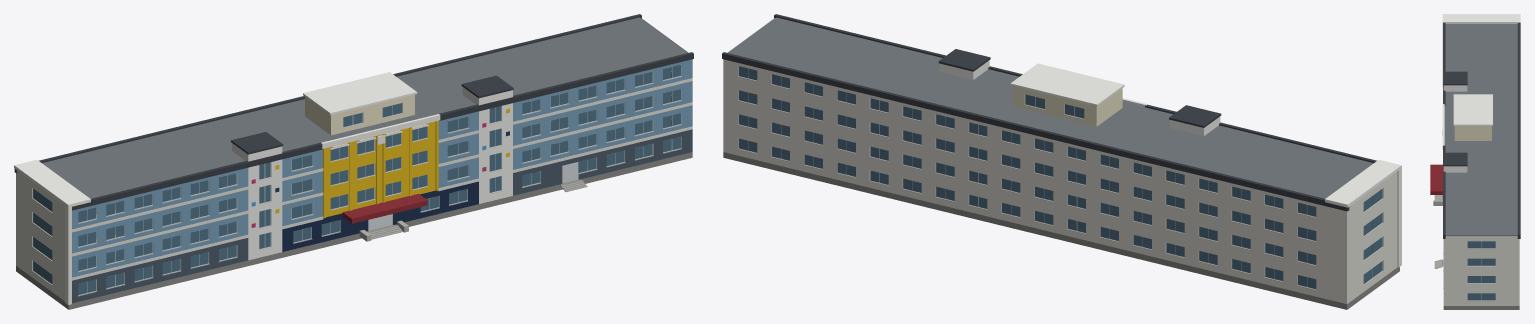
3 views of the same model, side by side, from view 1: azimuth 30°, elevation 25°; view 2: azimuth 150°, elevation 25°; view 3: azimuth 270°, elevation 25° (orthographic). The views are drawn at different scales.
Parts seen in each view (by area): view 1: roof, pastelBlue, glass, creamWall, mansardDark, slateBase, coreWhite, yellowWall, frame, plinth, cornice, navyBase (+4 smaller); view 2: creamWall, roof, glass, mansardDark, plinth, frame, cornice, gableFrame, penthouseWall, sill, coreWhite; view 3: roof, creamWall, mansardDark, cornice, glass, gableFrame, penthouseWall, plinth, burgundyCanopy, coreWhite, frame, sill.
Part boxes in pixels (bbox=[...]): roof: bbox=[42, 17, 687, 198]; pastelBlue: bbox=[72, 59, 692, 277]; glass: bbox=[33, 65, 680, 294]; creamWall: bbox=[16, 18, 692, 300]; mansardDark: bbox=[14, 14, 693, 210]; slateBase: bbox=[72, 129, 692, 303]; coreWhite: bbox=[232, 87, 512, 260]; yellowWall: bbox=[323, 120, 438, 218]; frame: bbox=[32, 64, 681, 295]; plinth: bbox=[16, 139, 692, 309]; cornice: bbox=[303, 72, 440, 149]; navyBase: bbox=[282, 181, 478, 251]; creamWall: bbox=[723, 18, 1397, 303]; roof: bbox=[728, 17, 1373, 198]; glass: bbox=[739, 66, 1382, 288]; mansardDark: bbox=[722, 14, 1376, 211]; plinth: bbox=[723, 152, 1399, 309]; frame: bbox=[738, 66, 1383, 289]; cornice: bbox=[1010, 63, 1147, 106]; gableFrame: bbox=[1325, 159, 1401, 267]; penthouseWall: bbox=[1012, 86, 1122, 126]; sill: bbox=[738, 76, 1383, 290]; coreWhite: bbox=[939, 60, 1220, 158]; roof: bbox=[1444, 24, 1517, 235]; creamWall: bbox=[1443, 236, 1519, 305]; mansardDark: bbox=[1443, 23, 1520, 238]; cornice: bbox=[1442, 94, 1492, 148]; glass: bbox=[1467, 241, 1495, 300]; gableFrame: bbox=[1442, 14, 1520, 86]; penthouseWall: bbox=[1454, 126, 1491, 140]; plinth: bbox=[1443, 236, 1519, 309]; burgundyCanopy: bbox=[1430, 164, 1442, 194]; coreWhite: bbox=[1443, 85, 1467, 172]; frame: bbox=[1467, 241, 1495, 300]; sill: bbox=[1467, 249, 1495, 301].
Size of the model in its own units: 92.3 by 17.79 by 16.
